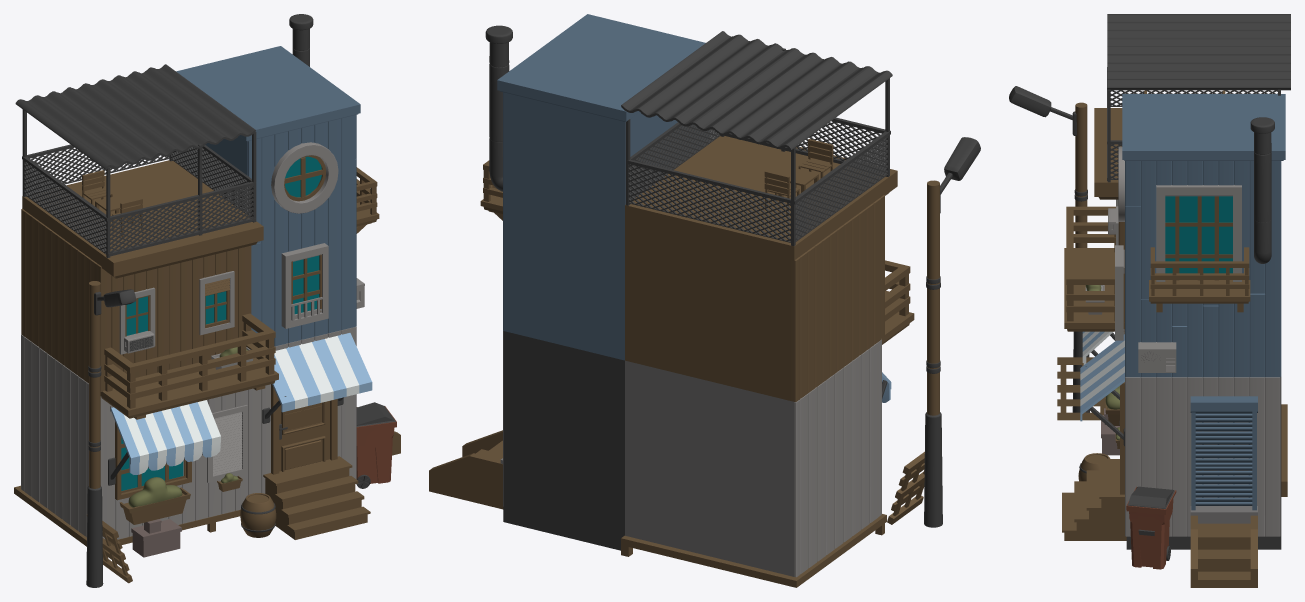
The model's file is House.fbx.
3 views of the same model, side by side, from view 1: azimuth 30°, elevation 25°; view 2: azimuth 150°, elevation 25°; view 3: azimuth 270°, elevation 25° (orthographic). The views are drawn at different scales.
Visible parts, largest first — view 1: pCube278; view 2: pCube278; view 3: pCube278.
Boxes of the visible parts, box(x1,y1,x2,y2) form: pCube278: box(14, 14, 400, 587); pCube278: box(429, 14, 980, 587); pCube278: box(1009, 14, 1290, 587).
Bounding box in the file's own units: 866 × 965 × 562.
